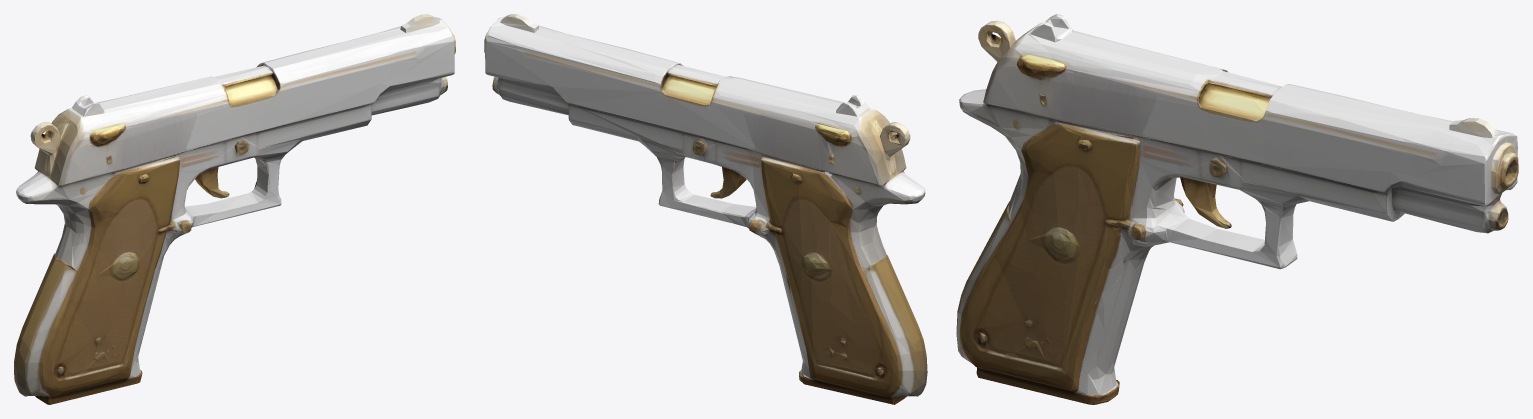
File: white_makarov.glb
3 views of the same model, side by side, from view 1: azimuth 30°, elevation 25°; view 2: azimuth 150°, elevation 25°; view 3: azimuth 330°, elevation 25° (orthographic). The views are drawn at different scales.
Parts seen in each view (by area): view 1: geometry_0; view 2: geometry_0; view 3: geometry_0.
Part boxes in pixels (x1,y1,x2,y2): geometry_0: (14, 14, 455, 404); geometry_0: (484, 14, 927, 404); geometry_0: (956, 14, 1518, 404).
Bounding box in the file's own units: 1 × 0.6361 × 0.14.
Materials: 1 (1 with a texture image).
